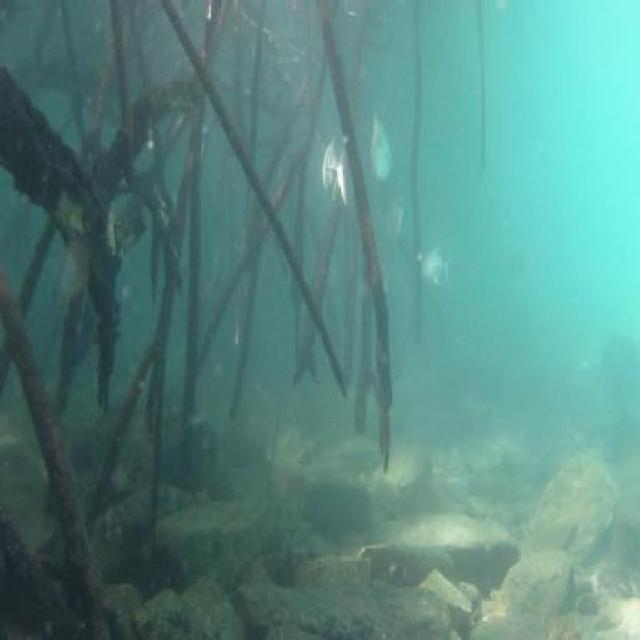Caranx_sexfasciatus_juvenile: (315, 126, 353, 217), (364, 98, 394, 178), (418, 241, 452, 302), (386, 179, 414, 247)
